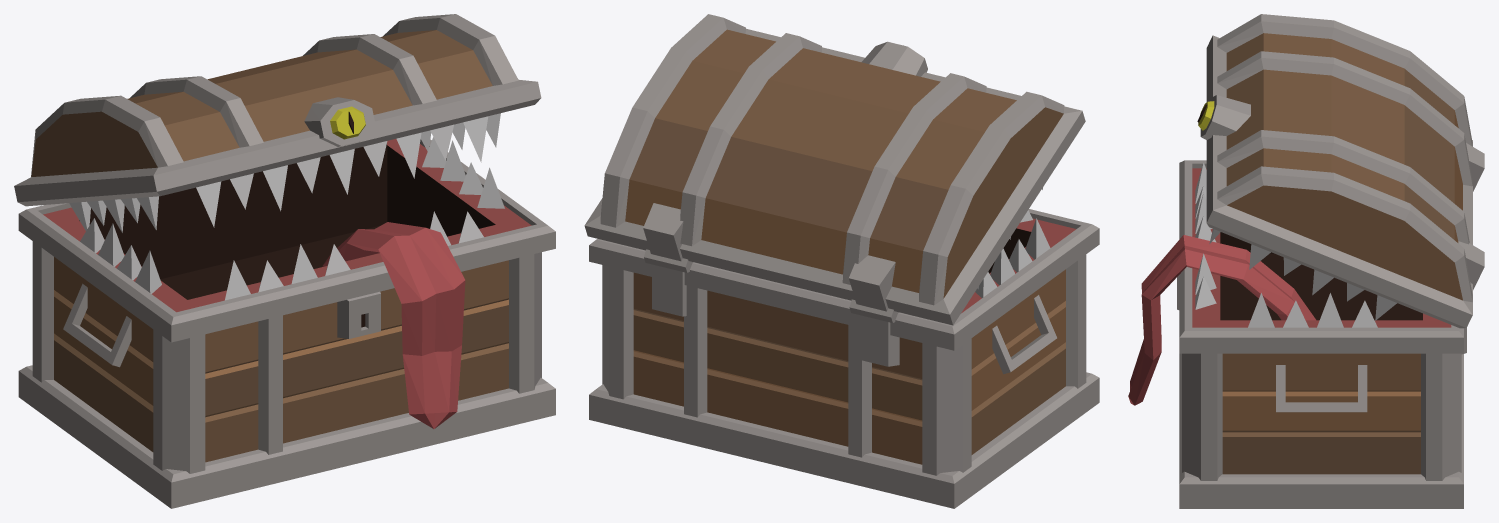
File: mimic-chest-57e440.glb
3 views of the same model, side by side, from view 1: azimuth 30°, elevation 25°; view 2: azimuth 150°, elevation 25°; view 3: azimuth 270°, elevation 25° (orthographic). The views are drawn at different scales.
Parts seen in each view (by area): view 1: body, body-metal, lid-shell, lid-shell-metal; view 2: lid-shell, body-metal, lid-shell-metal, body; view 3: body, lid-shell-metal, lid-shell, body-metal.
Boxes of the visible parts, box(x1,y1,x2,y2) form: body: box(43, 137, 531, 462); body-metal: box(18, 139, 555, 508); lid-shell: box(31, 30, 500, 232); lid-shell-metal: box(14, 14, 541, 206); lid-shell: box(625, 29, 1063, 298); body-metal: box(589, 209, 1099, 508); lid-shell-metal: box(584, 14, 1085, 325); body: box(633, 210, 1076, 464); body: box(1128, 162, 1451, 474); lid-shell-metal: box(1200, 14, 1484, 328); lid-shell: box(1197, 33, 1462, 320); body-metal: box(1177, 160, 1466, 508).
Size of the model in its own units: 0.9975 by 0.8383 by 0.8266.
